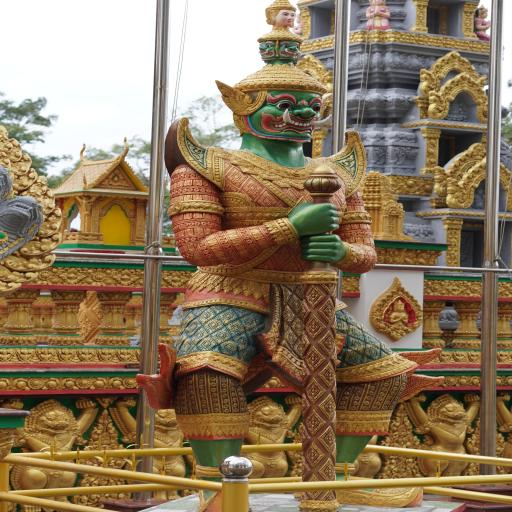ran: (0, 121, 76, 328)
than: (126, 12, 392, 512), (0, 391, 104, 512), (105, 392, 204, 494), (392, 384, 476, 476), (225, 387, 307, 479), (258, 0, 311, 43), (354, 0, 404, 34), (386, 296, 421, 338), (472, 4, 498, 43)
